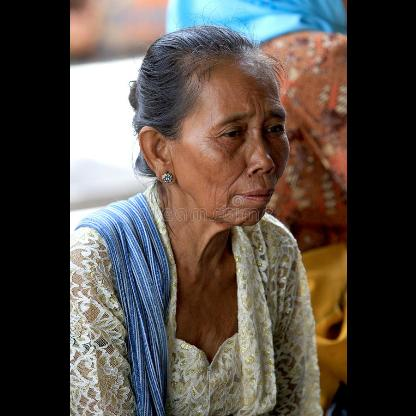Female: (138, 52, 286, 226)
